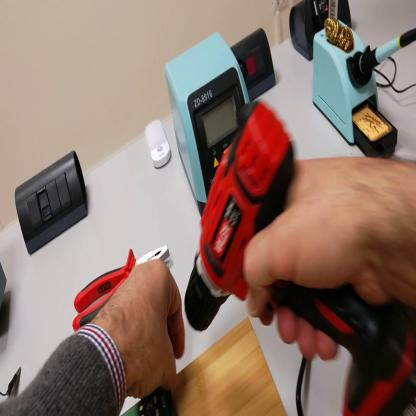electric screwdriver: (185, 99, 416, 415)
hand: (239, 155, 398, 365), (86, 258, 187, 395)
oscilloscope: (2, 253, 9, 319)
pliers: (72, 241, 170, 337)
socket: (290, 1, 353, 62), (232, 29, 276, 102)
welder base: (312, 4, 399, 156)
welder probe tip: (358, 27, 416, 77)
welder station: (167, 33, 253, 216)
working area: (171, 319, 286, 412)
